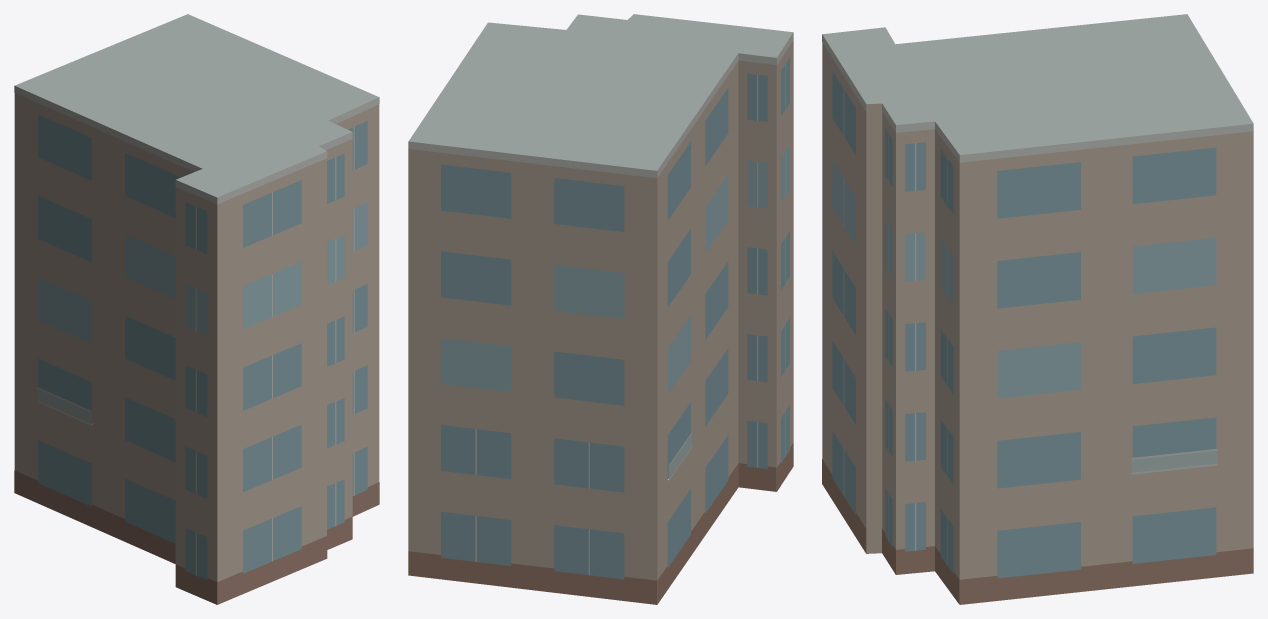
File: survey-upis-32904129.glb
3 renders of one model, left to right at view 1: azimuth 30°, elevation 25°; view 2: azimuth 150°, elevation 25°; view 3: azimuth 270°, elevation 25°, orthographic. The views are drawn at different scales.
Parts seen in each view (by area): view 1: survey-upis-32904129.tmp; view 2: survey-upis-32904129.tmp; view 3: survey-upis-32904129.tmp.
Part boxes in pixels (bbox=[...]): survey-upis-32904129.tmp: bbox=[14, 14, 379, 604]; survey-upis-32904129.tmp: bbox=[408, 14, 793, 604]; survey-upis-32904129.tmp: bbox=[822, 14, 1253, 604].
Size of the model in its own units: 9.7 by 14.4 by 12.54.
